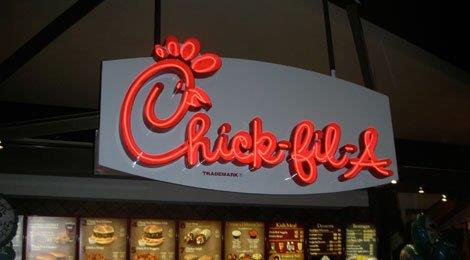Chick_Fil_A: (115, 36, 397, 183)
